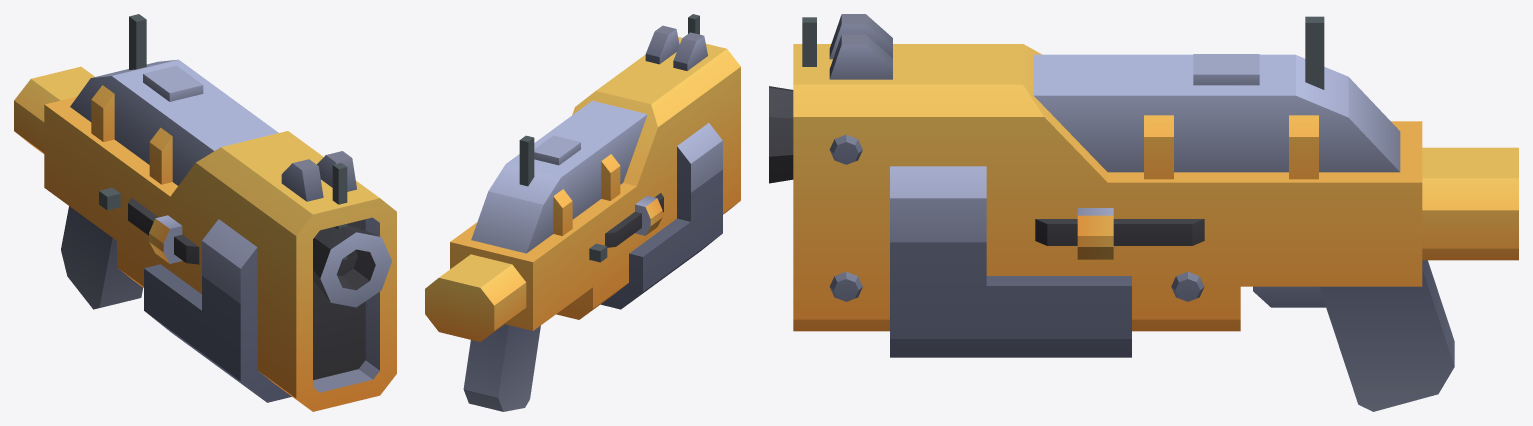
The model's file is weapon_09.glb.
The picture shows the model from 3 angles, left to right: view 1: azimuth 30°, elevation 25°; view 2: azimuth 150°, elevation 25°; view 3: azimuth 270°, elevation 25°; orthographic projection. The views are drawn at different scales.
Visible parts, largest first — view 1: receiver_geometry, cylinder_hinge_geometry, CC0_weapon_09_geometry, charging_handle_geometry; view 2: receiver_geometry, cylinder_hinge_geometry, CC0_weapon_09_geometry, charging_handle_geometry; view 3: receiver_geometry, cylinder_hinge_geometry, CC0_weapon_09_geometry.
Boxes of the visible parts, x1,y1,x2,y2 form: receiver_geometry: (14,59,296,397); cylinder_hinge_geometry: (119,131,396,411); CC0_weapon_09_geometry: (129,14,347,260); charging_handle_geometry: (99,187,120,210); receiver_geometry: (425,67,740,411); cylinder_hinge_geometry: (572,25,740,317); CC0_weapon_09_geometry: (519,14,699,186); charging_handle_geometry: (589,243,607,262); receiver_geometry: (793,54,1518,411); cylinder_hinge_geometry: (769,14,1240,357); CC0_weapon_09_geometry: (802,16,1324,89).
Size of the model in its own units: 0.1916 by 0.4018 by 0.72.
Materials: 3 (1 with a texture image).
